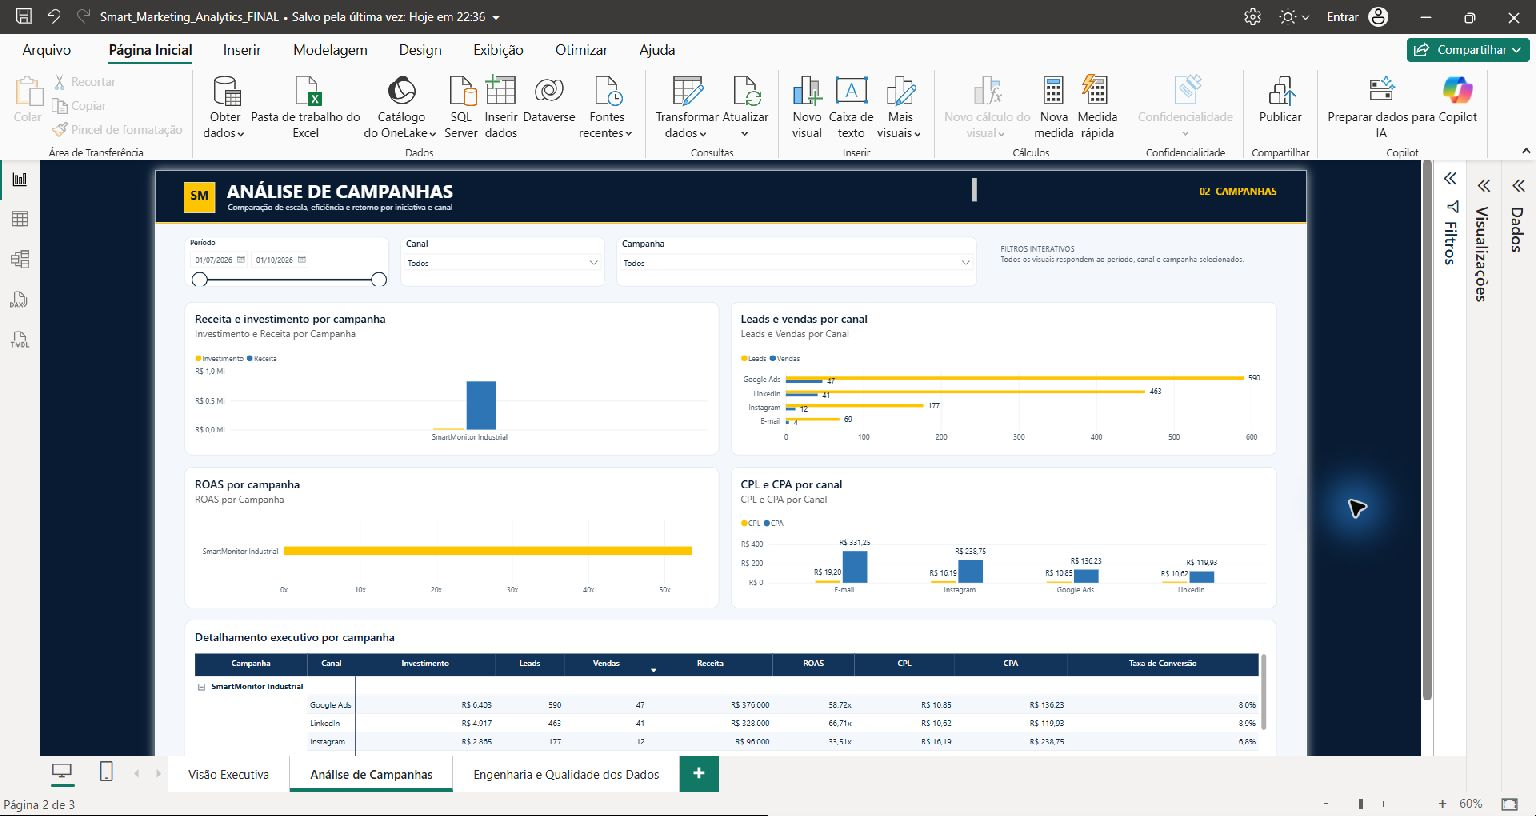

The dashboard page shown, as its layout file describes it:
{"tool":"powerbi","page":{"name":"Análise de Campanhas","canvas":[1920,1080],"ordinal":1},"visuals":[{"type":"shape","box":[0,0,1920,90],"z":0},{"type":"shape","box":[0,86,1920,4],"z":1},{"type":"shape","box":[48,20,52,52],"z":2},{"type":"textbox","box":[120,13,1250,40],"z":3},{"type":"textbox","box":[1730,24,140,35],"z":3},{"type":"textbox","box":[51,29,46,30],"z":3},{"type":"textbox","box":[122,52,1350,25],"z":3},{"type":"slicer","fields":{"Values":["Campanhas.Data"]},"box":[50,112,340,82],"z":20},{"type":"slicer","fields":{"Values":["Campanhas.Canal"]},"box":[410,112,340,82],"z":21},{"type":"slicer","fields":{"Values":["Campanhas.Campanha"]},"box":[770,112,600,82],"z":22},{"type":"textbox","box":[1410,121,450,65],"z":22},{"type":"clusteredColumnChart","title":"Receita e investimento por campanha","fields":{"Category":["Campanhas.Campanha"],"Y":["Campanhas.Investimento","Campanhas.Receita"]},"box":[50,220,890,255],"z":50},{"type":"clusteredBarChart","title":"Leads e vendas por canal","fields":{"Category":["Campanhas.Canal"],"Y":["Campanhas.Leads","Campanhas.Vendas"]},"box":[960,220,910,255],"z":51},{"type":"clusteredBarChart","title":"ROAS por campanha","fields":{"Category":["Campanhas.Campanha"],"Y":["Campanhas.ROAS"]},"box":[50,495,890,235],"z":52},{"type":"clusteredColumnChart","title":"CPL e CPA por canal","fields":{"Category":["Campanhas.Canal"],"Y":["Campanhas.CPL","Campanhas.CPA"]},"box":[960,495,910,235],"z":53},{"type":"pivotTable","title":"Detalhamento executivo por campanha","fields":{"Rows":["Campanhas.Campanha","Campanhas.Canal"],"Values":["Campanhas.Investimento","Campanhas.Leads","Campanhas.Vendas","Campanhas.Receita","Campanhas.ROAS","Campanhas.CPL","Campanhas.CPA","Campanhas.Taxa de Conversão"]},"box":[50,750,1820,260],"z":60},{"type":"textbox","box":[50,1030,1820,28],"z":900}]}

Visuals, with their boxes on the page's 1920x1080 design canvas (x1, y1, x2, y2). These are canvas units, not pixel positions in the 1536x816 screenshot, which may show the page scaled, cropped or inside an application window:
shape: pyautogui.locateOnScreen(0, 0, 1920, 90)
shape: pyautogui.locateOnScreen(0, 86, 1920, 90)
shape: pyautogui.locateOnScreen(48, 20, 100, 72)
textbox: pyautogui.locateOnScreen(120, 13, 1370, 53)
textbox: pyautogui.locateOnScreen(1730, 24, 1870, 59)
textbox: pyautogui.locateOnScreen(51, 29, 97, 59)
textbox: pyautogui.locateOnScreen(122, 52, 1472, 77)
slicer - Campanhas.Data: pyautogui.locateOnScreen(50, 112, 390, 194)
slicer - Campanhas.Canal: pyautogui.locateOnScreen(410, 112, 750, 194)
slicer - Campanhas.Campanha: pyautogui.locateOnScreen(770, 112, 1370, 194)
textbox: pyautogui.locateOnScreen(1410, 121, 1860, 186)
"Receita e investimento por campanha" clusteredColumnChart: pyautogui.locateOnScreen(50, 220, 940, 475)
"Leads e vendas por canal" clusteredBarChart: pyautogui.locateOnScreen(960, 220, 1870, 475)
"ROAS por campanha" clusteredBarChart: pyautogui.locateOnScreen(50, 495, 940, 730)
"CPL e CPA por canal" clusteredColumnChart: pyautogui.locateOnScreen(960, 495, 1870, 730)
"Detalhamento executivo por campanha" pivotTable: pyautogui.locateOnScreen(50, 750, 1870, 1010)
textbox: pyautogui.locateOnScreen(50, 1030, 1870, 1058)
